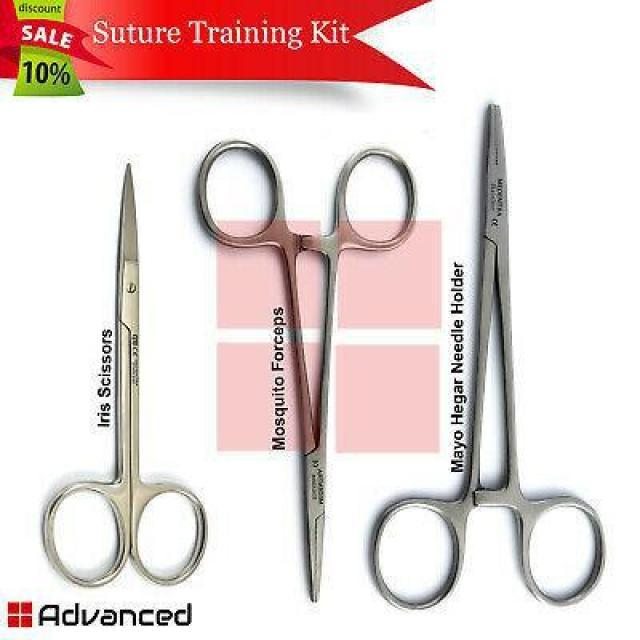Hemostat: (190, 136, 421, 603)
Iris: (36, 157, 212, 590)
